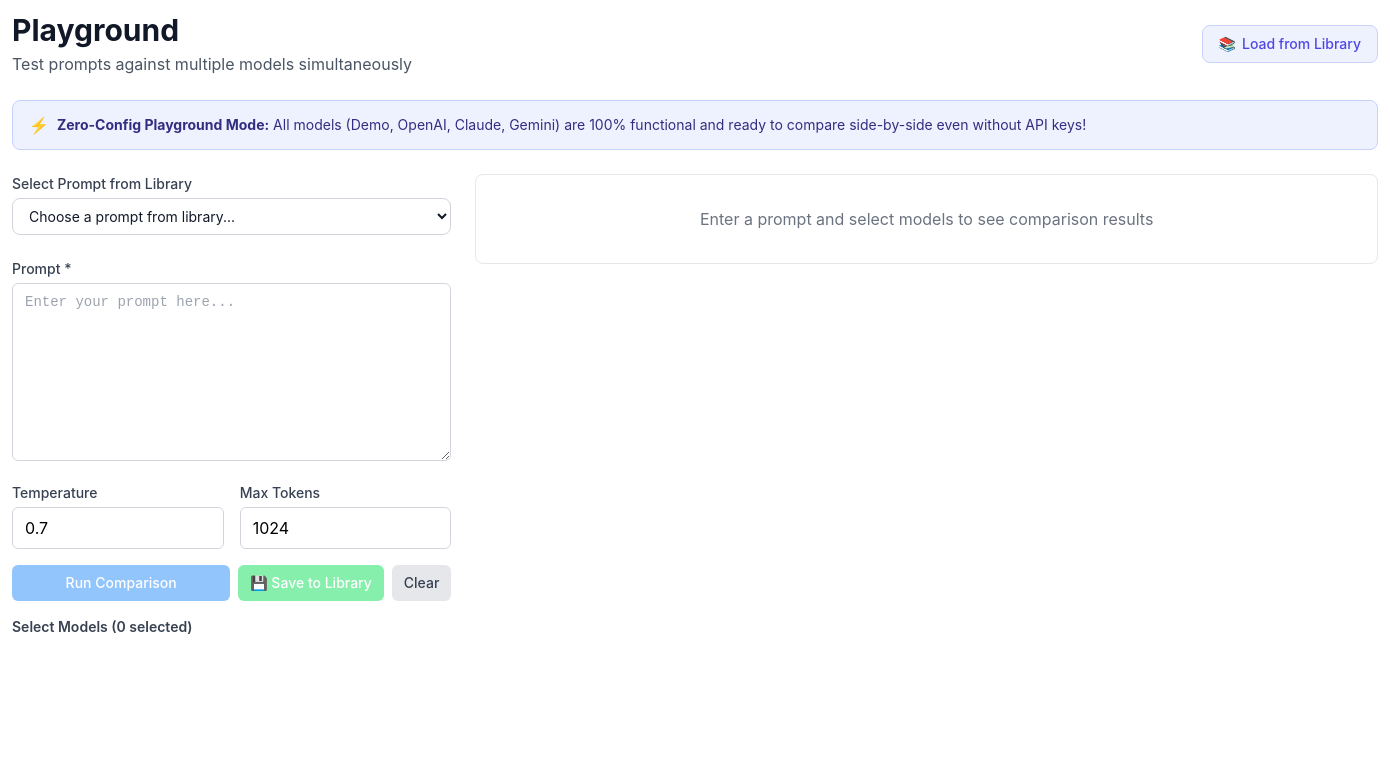
Test: Playground › should clear results on clear button
The width and height of the screenshot is (1390, 780).
Type "Test prompt" into the text box with placeholder "Enter your prompt here..." at (232, 372), box left=12, top=283, right=451, bottom=461
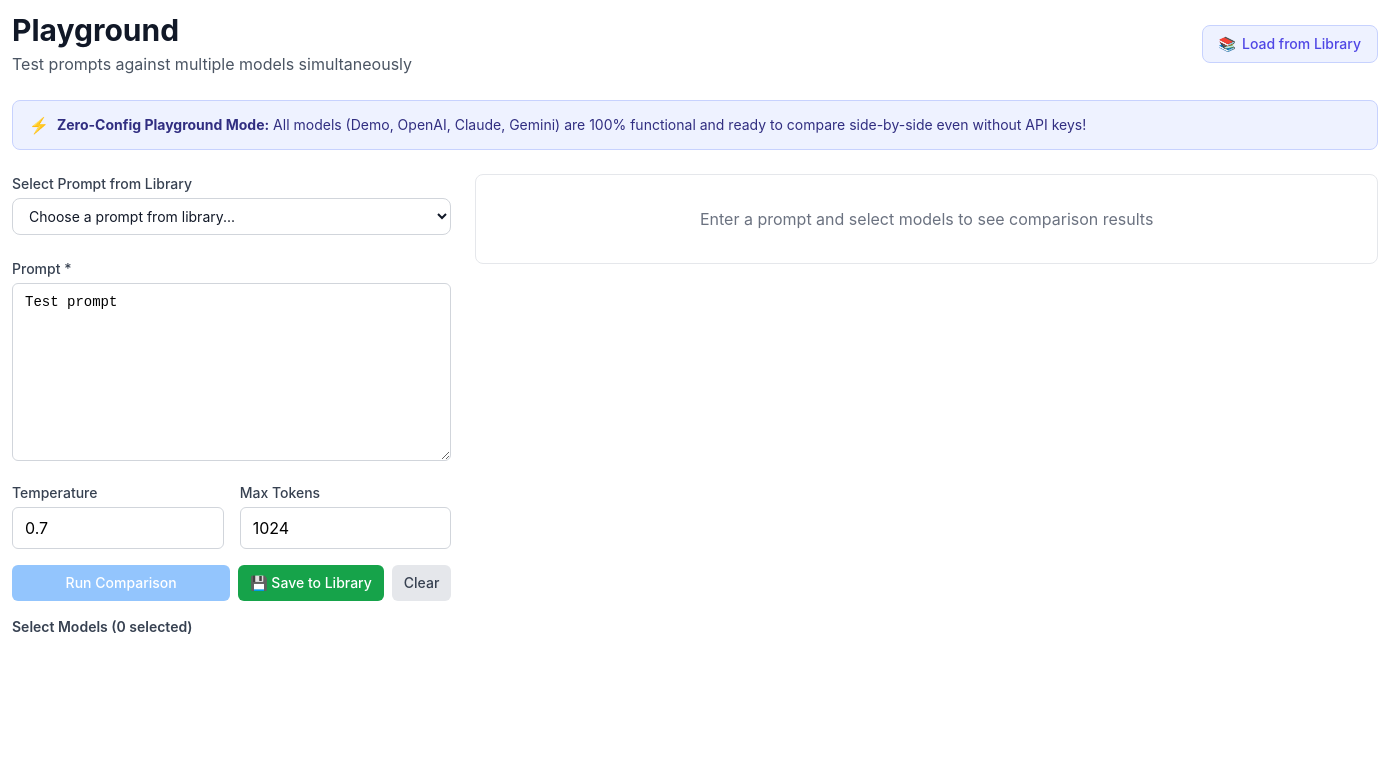
Click the button "Clear" at (422, 583), box left=392, top=565, right=451, bottom=601
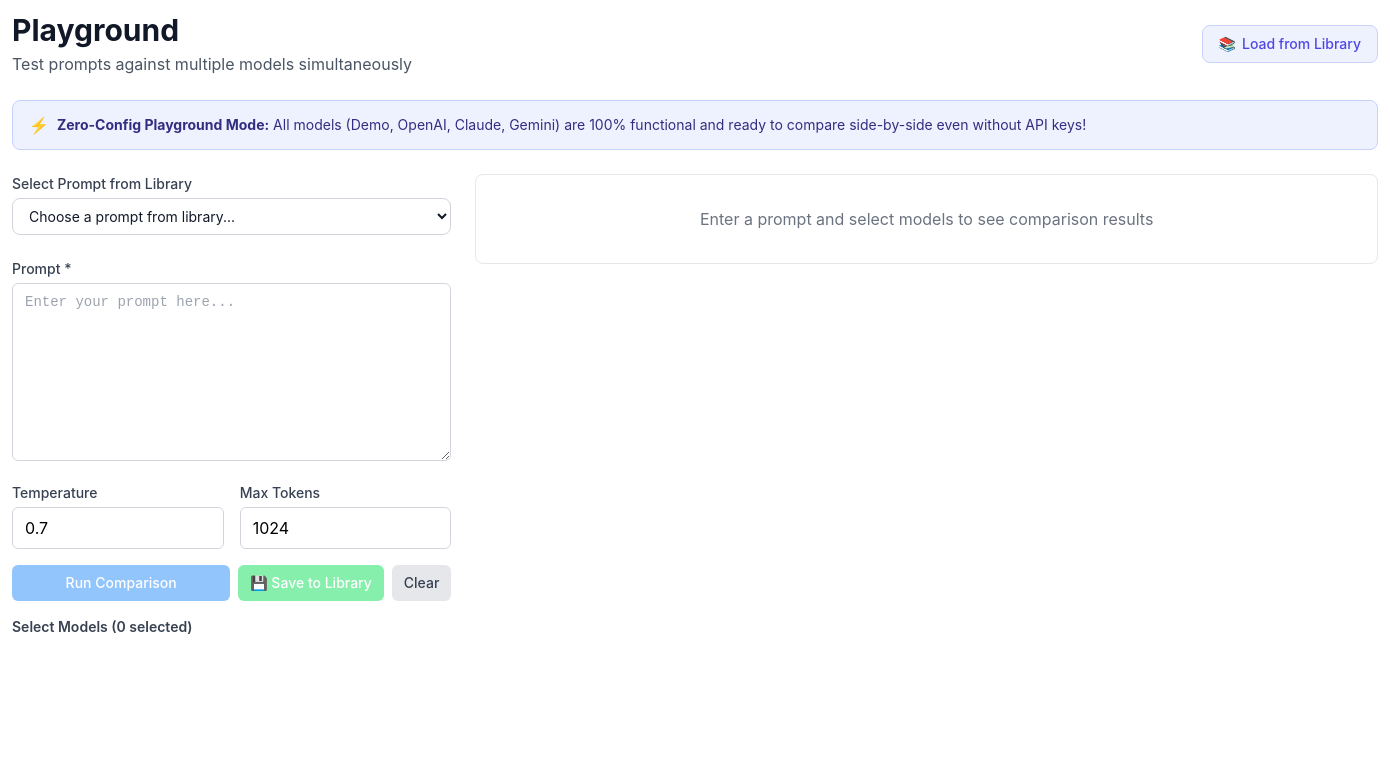
expect the text box with placeholder "Enter your prompt here..." is empty: met, box left=12, top=283, right=451, bottom=461
